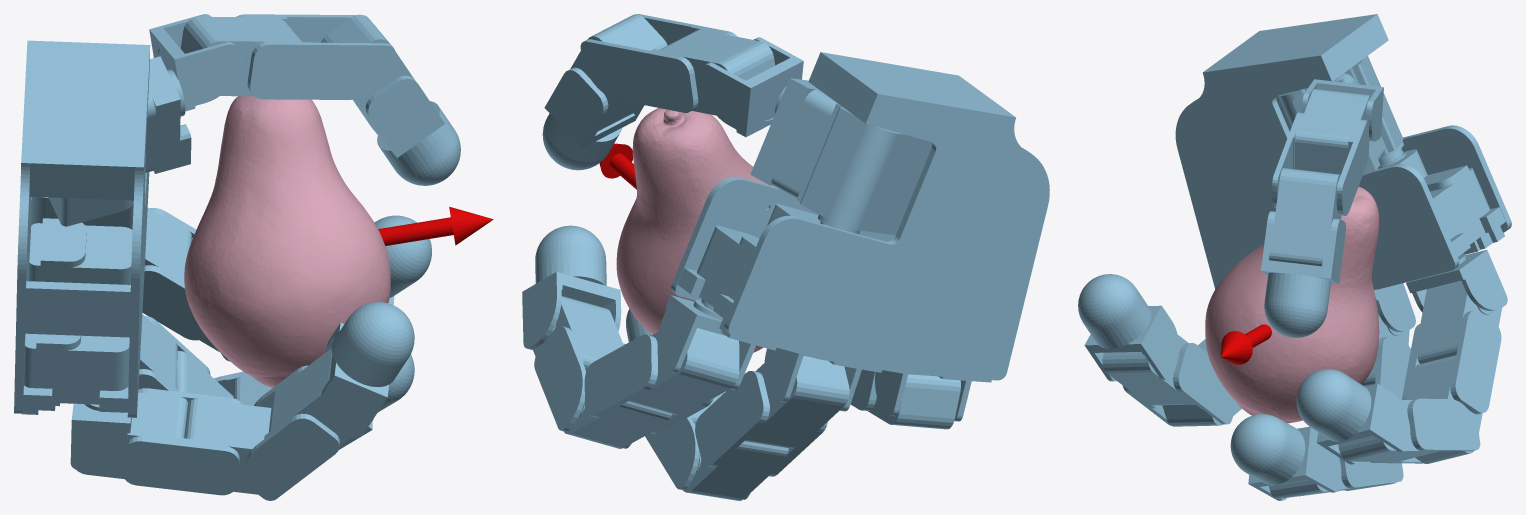
3 renders of one model, left to right at view 1: azimuth 30°, elevation 25°; view 2: azimuth 150°, elevation 25°; view 3: azimuth 270°, elevation 25°, orthographic. The views are drawn at different scales.
Visible parts, largest first — view 1: world, pear.stl; view 2: world, pear.stl; view 3: world, pear.stl.
Boxes of the visible parts, box(x1,y1,x2,y2) form: world: box(14, 14, 493, 500); pear.stl: box(184, 96, 390, 387); world: box(522, 14, 1049, 500); pear.stl: box(616, 108, 774, 352); world: box(1078, 14, 1511, 500); pear.stl: box(1205, 186, 1379, 423).
Bounding box in the file's own units: 0.182 × 0.1702 × 0.1638.
